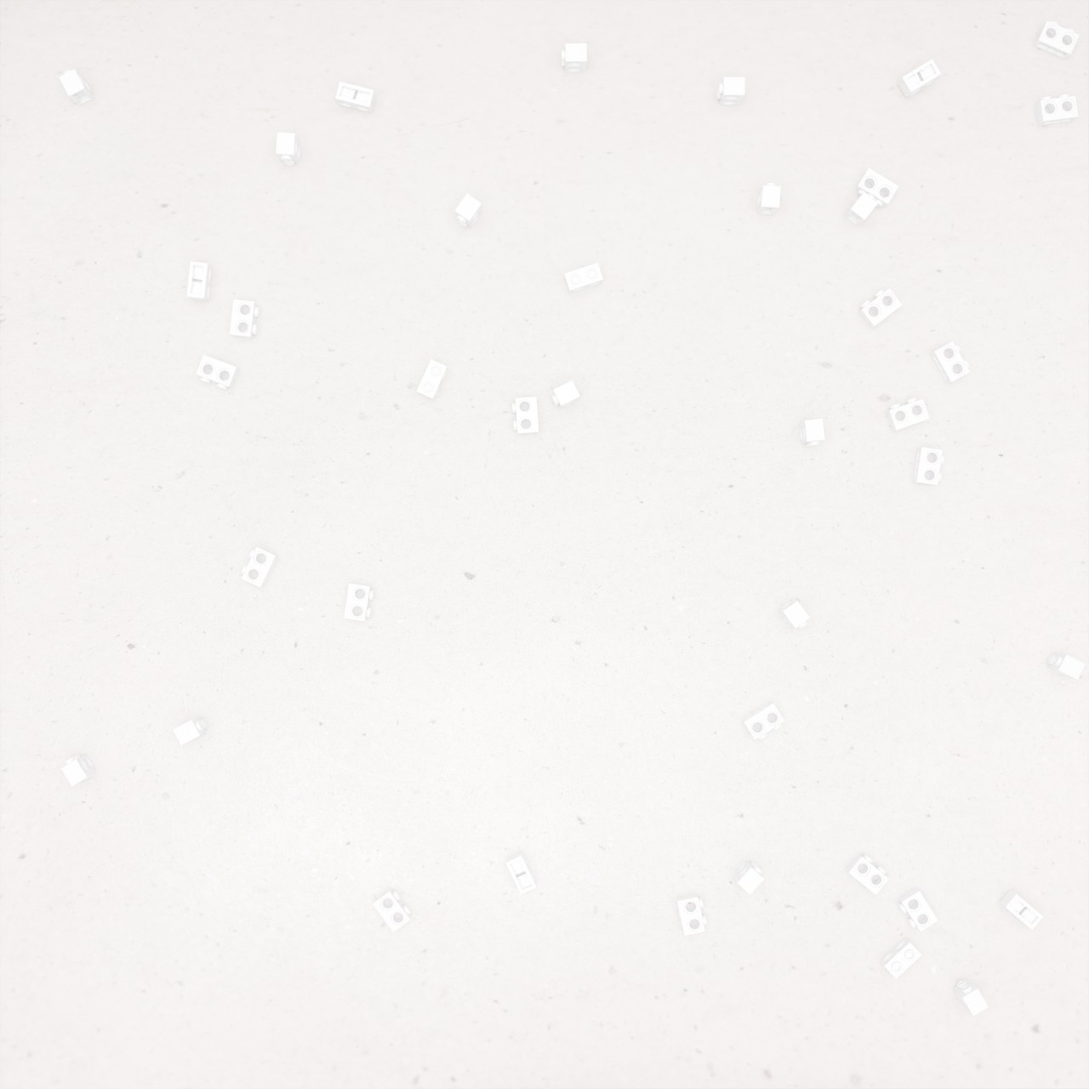lego: (845, 853, 889, 895), (999, 889, 1044, 930), (858, 288, 903, 329), (1033, 21, 1080, 60), (879, 937, 922, 979), (854, 168, 899, 208), (898, 887, 938, 932), (372, 888, 412, 932), (897, 59, 942, 98), (930, 341, 970, 384), (741, 701, 785, 740), (196, 354, 240, 390), (241, 547, 279, 588), (886, 397, 930, 432), (505, 851, 537, 895), (1035, 94, 1078, 126), (676, 893, 707, 936), (953, 979, 989, 1016), (59, 69, 95, 106), (335, 81, 376, 113), (417, 359, 448, 401), (912, 447, 944, 486), (229, 299, 260, 339), (61, 754, 98, 787), (564, 263, 603, 294), (844, 192, 878, 227), (344, 583, 374, 621), (733, 860, 765, 895), (1047, 652, 1086, 680), (186, 261, 212, 302), (173, 716, 208, 746), (512, 397, 539, 435), (455, 193, 483, 228), (778, 599, 810, 629), (276, 132, 301, 166), (551, 380, 580, 409), (716, 77, 745, 105), (757, 183, 781, 215), (799, 418, 825, 447), (561, 43, 587, 72)
